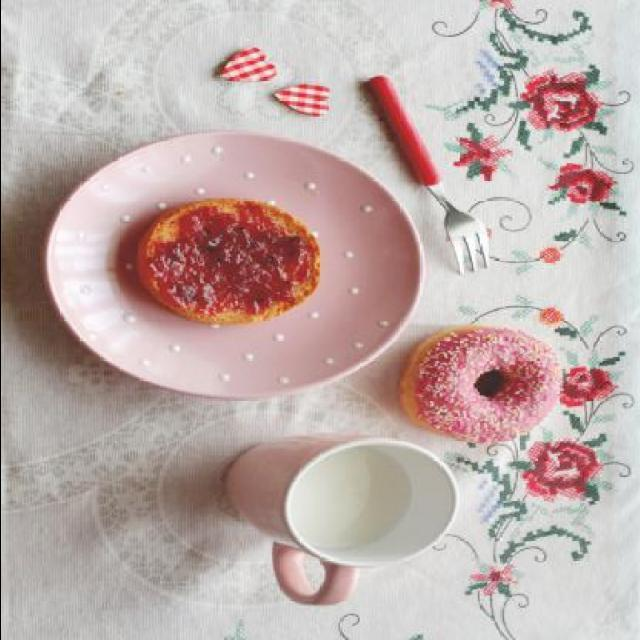Bagel: (401, 328, 570, 444)
